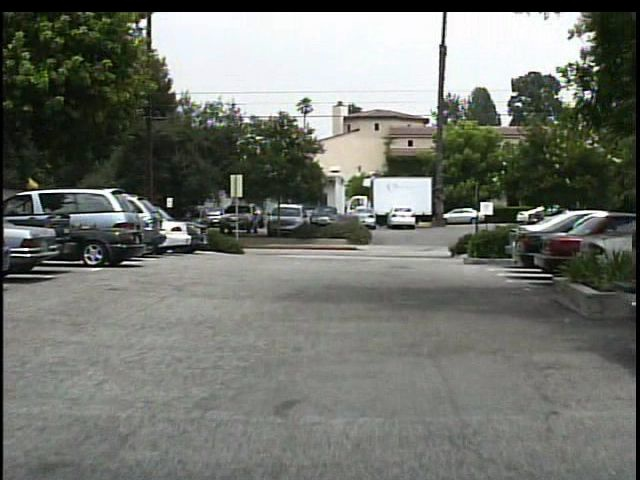person: (181, 209, 200, 246)
